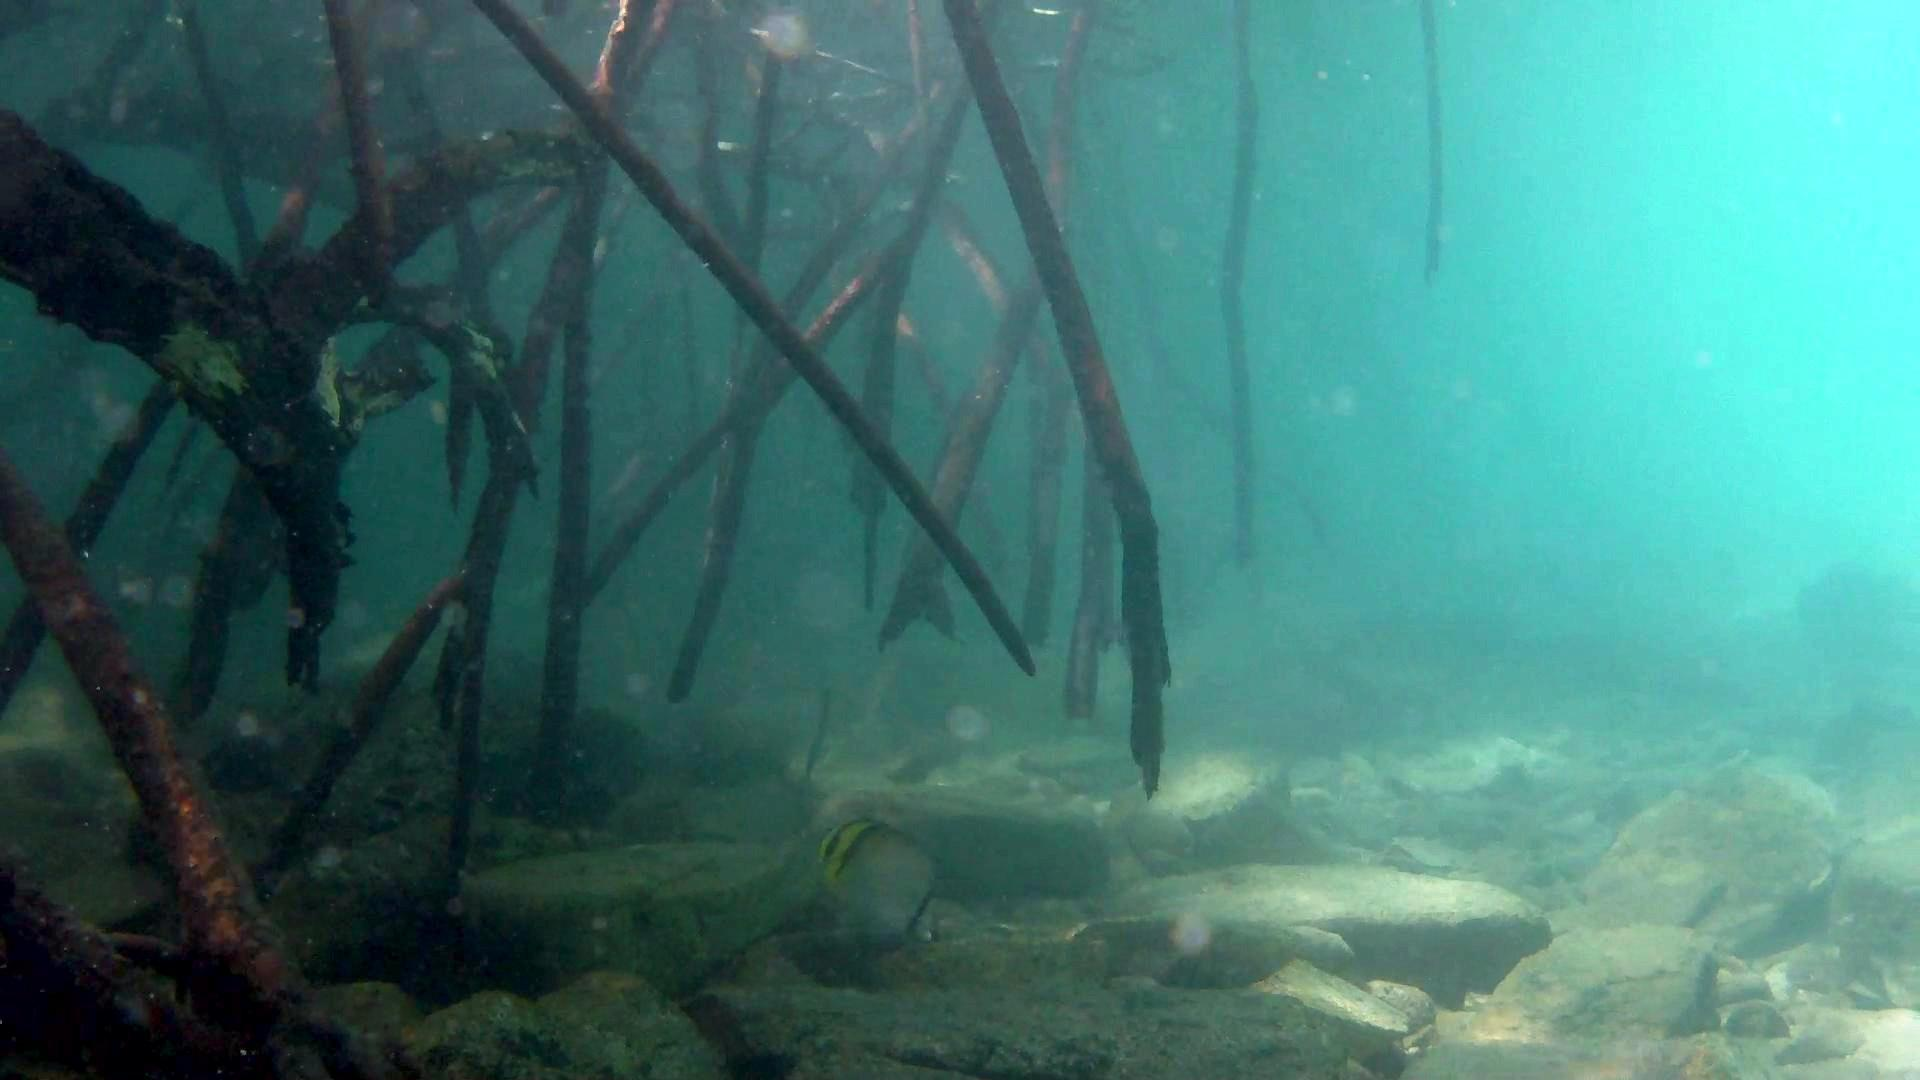chaetodon vagabundus: (812, 812, 940, 947)
